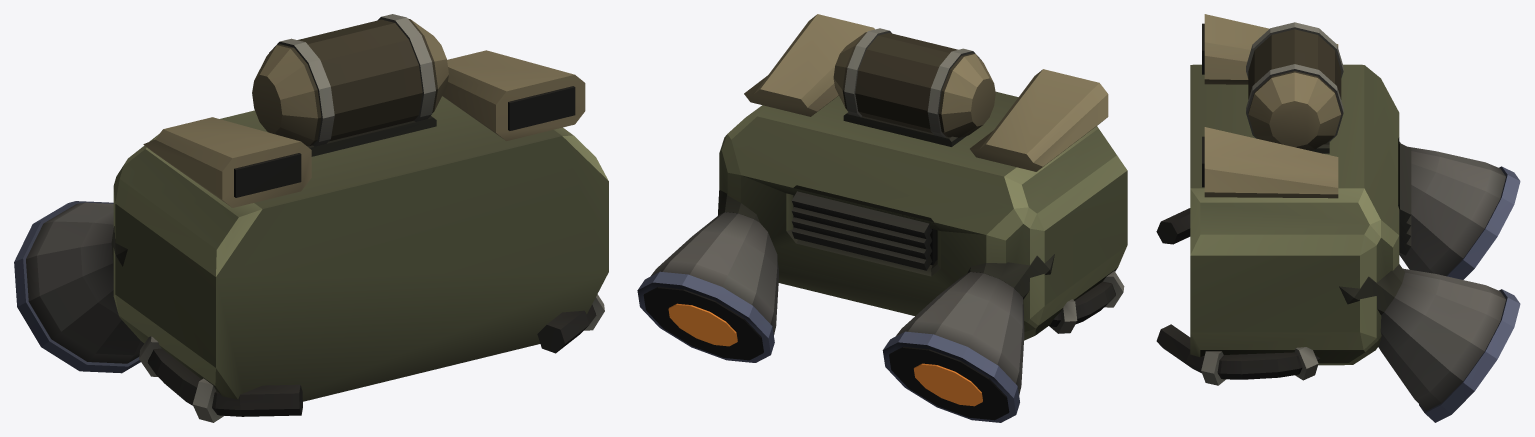
The model's file is pack-booster.glb.
The picture shows the model from 3 angles, left to right: view 1: azimuth 30°, elevation 25°; view 2: azimuth 150°, elevation 25°; view 3: azimuth 270°, elevation 25°; orthographic projection. The views are drawn at different scales.
Visible parts, largest first — view 1: Body; view 2: Body, Glow; view 3: Body.
Boxes of the visible parts, x1,y1,x2,y2 form: Body: [14, 14, 608, 422]; Body: [637, 14, 1127, 422]; Glow: [668, 303, 982, 406]; Body: [1156, 14, 1520, 422].
Size of the model in its own units: 1.52 by 1.17 by 1.25.
